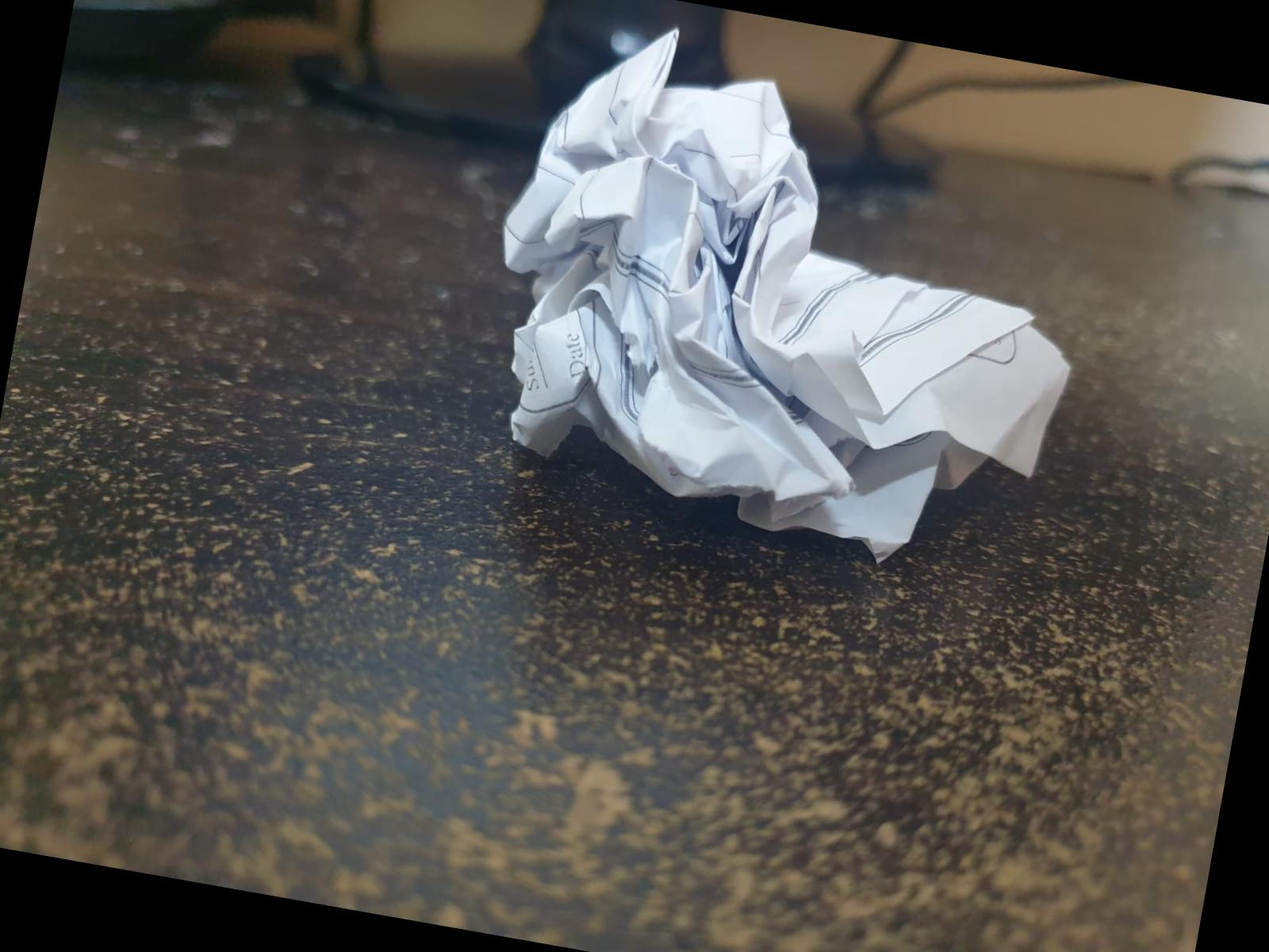Kertas: (479, 29, 1078, 572)
